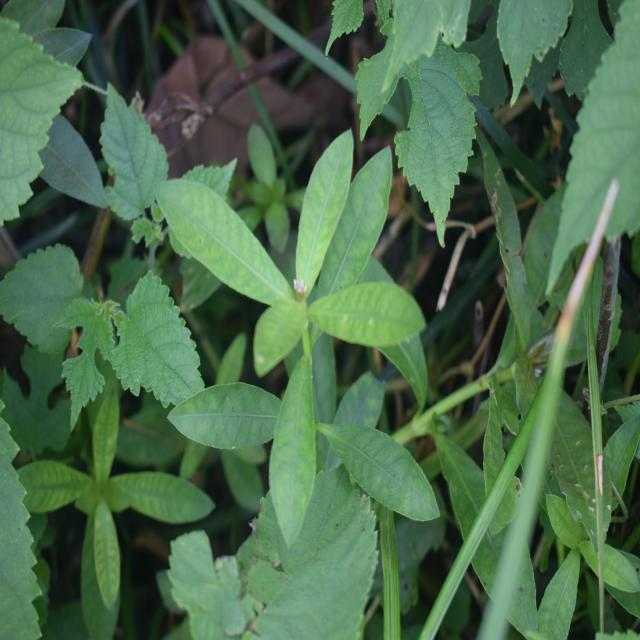Alligatorweed: (172, 151, 439, 529)
